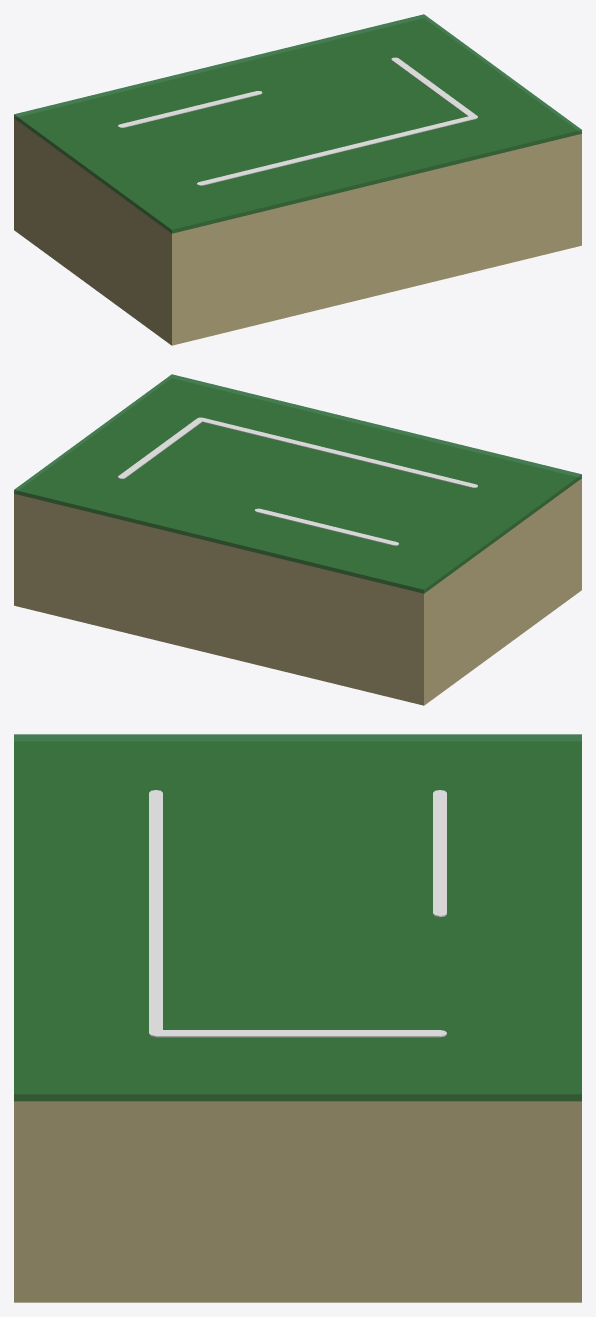
File: zero-width-lines.glb
3 views of the same model, one above another, from view 1: azimuth 30°, elevation 25°; view 2: azimuth 150°, elevation 25°; view 3: azimuth 270°, elevation 25° (orthographic). The views are drawn at different scales.
Visible parts, largest first — view 1: layer/@core, layer/@soldermask-top, layer/SILK; view 2: layer/@core, layer/@soldermask-top, layer/SILK; view 3: layer/@soldermask-top, layer/@core, layer/SILK.
Boxes of the visible parts, left/top/right/bottom form: layer/@core: left=14, top=19, right=581, bottom=345; layer/@soldermask-top: left=14, top=14, right=581, bottom=233; layer/SILK: left=118, top=57, right=477, bottom=185; layer/@core: left=14, top=382, right=581, bottom=705; layer/@soldermask-top: left=14, top=374, right=581, bottom=593; layer/SILK: left=118, top=417, right=477, bottom=545; layer/@soldermask-top: left=14, top=734, right=581, bottom=1101; layer/@core: left=14, top=742, right=581, bottom=1302; layer/SILK: left=149, top=790, right=446, bottom=1037.
Bounding box in the file's own units: 0.006 × 0.00163 × 0.004.
